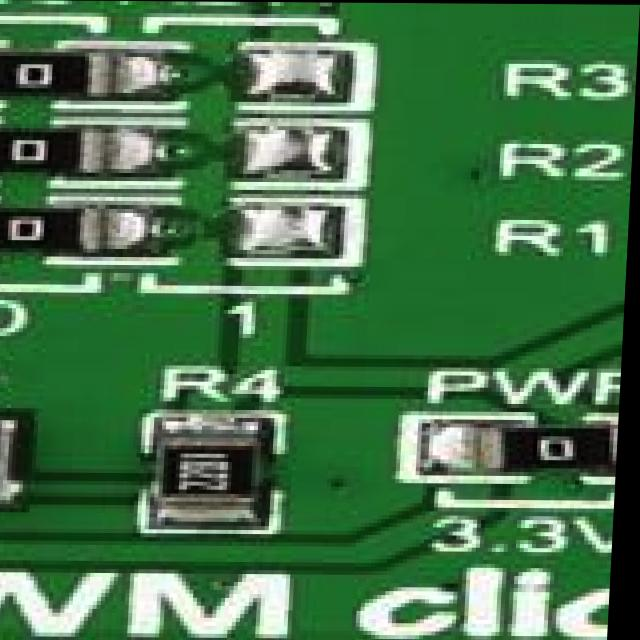LED: (0, 412, 7, 516)
resistor: (163, 421, 277, 522), (0, 40, 138, 101), (457, 423, 623, 464), (0, 132, 123, 185), (0, 204, 116, 245)
